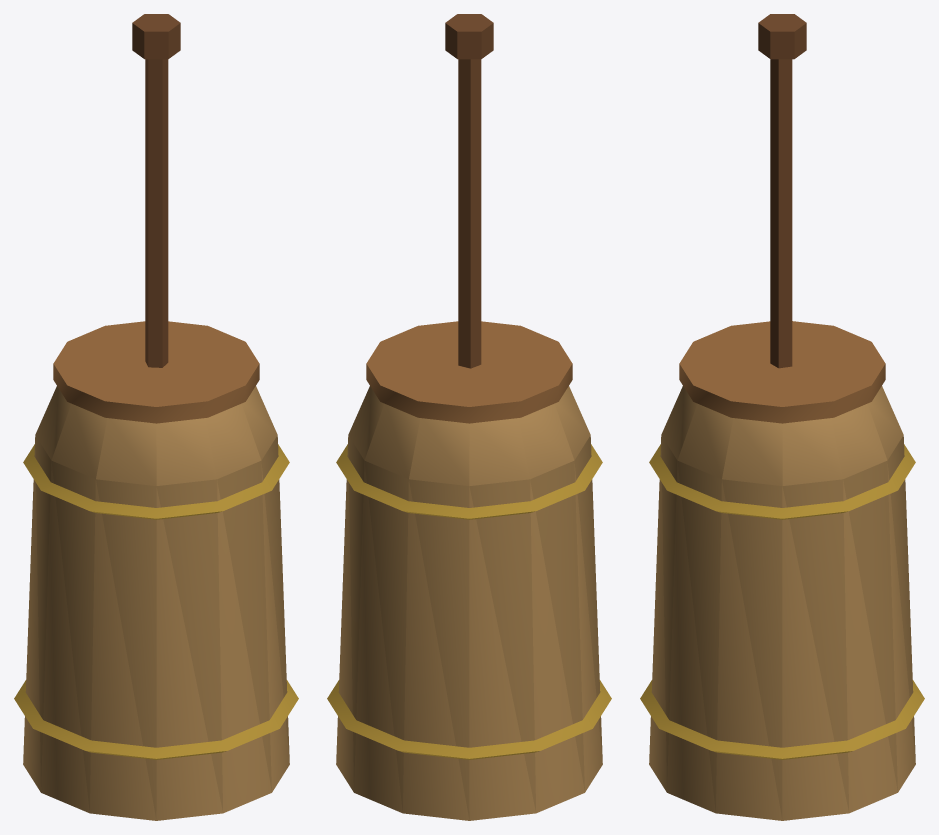
Rendered from butter_churn.glb.
3 views of the same model, side by side, from view 1: azimuth 30°, elevation 25°; view 2: azimuth 150°, elevation 25°; view 3: azimuth 270°, elevation 25° (orthographic).
Parts seen in each view (by area): view 1: furniture-butter_churn; view 2: furniture-butter_churn; view 3: furniture-butter_churn.
Boxes of the visible parts, x1,y1,x2,y2 form: furniture-butter_churn: (14, 14, 298, 820); furniture-butter_churn: (327, 14, 611, 820); furniture-butter_churn: (640, 14, 924, 820).
Size of the model in its own units: 0.4701 by 1.35 by 0.4701.
